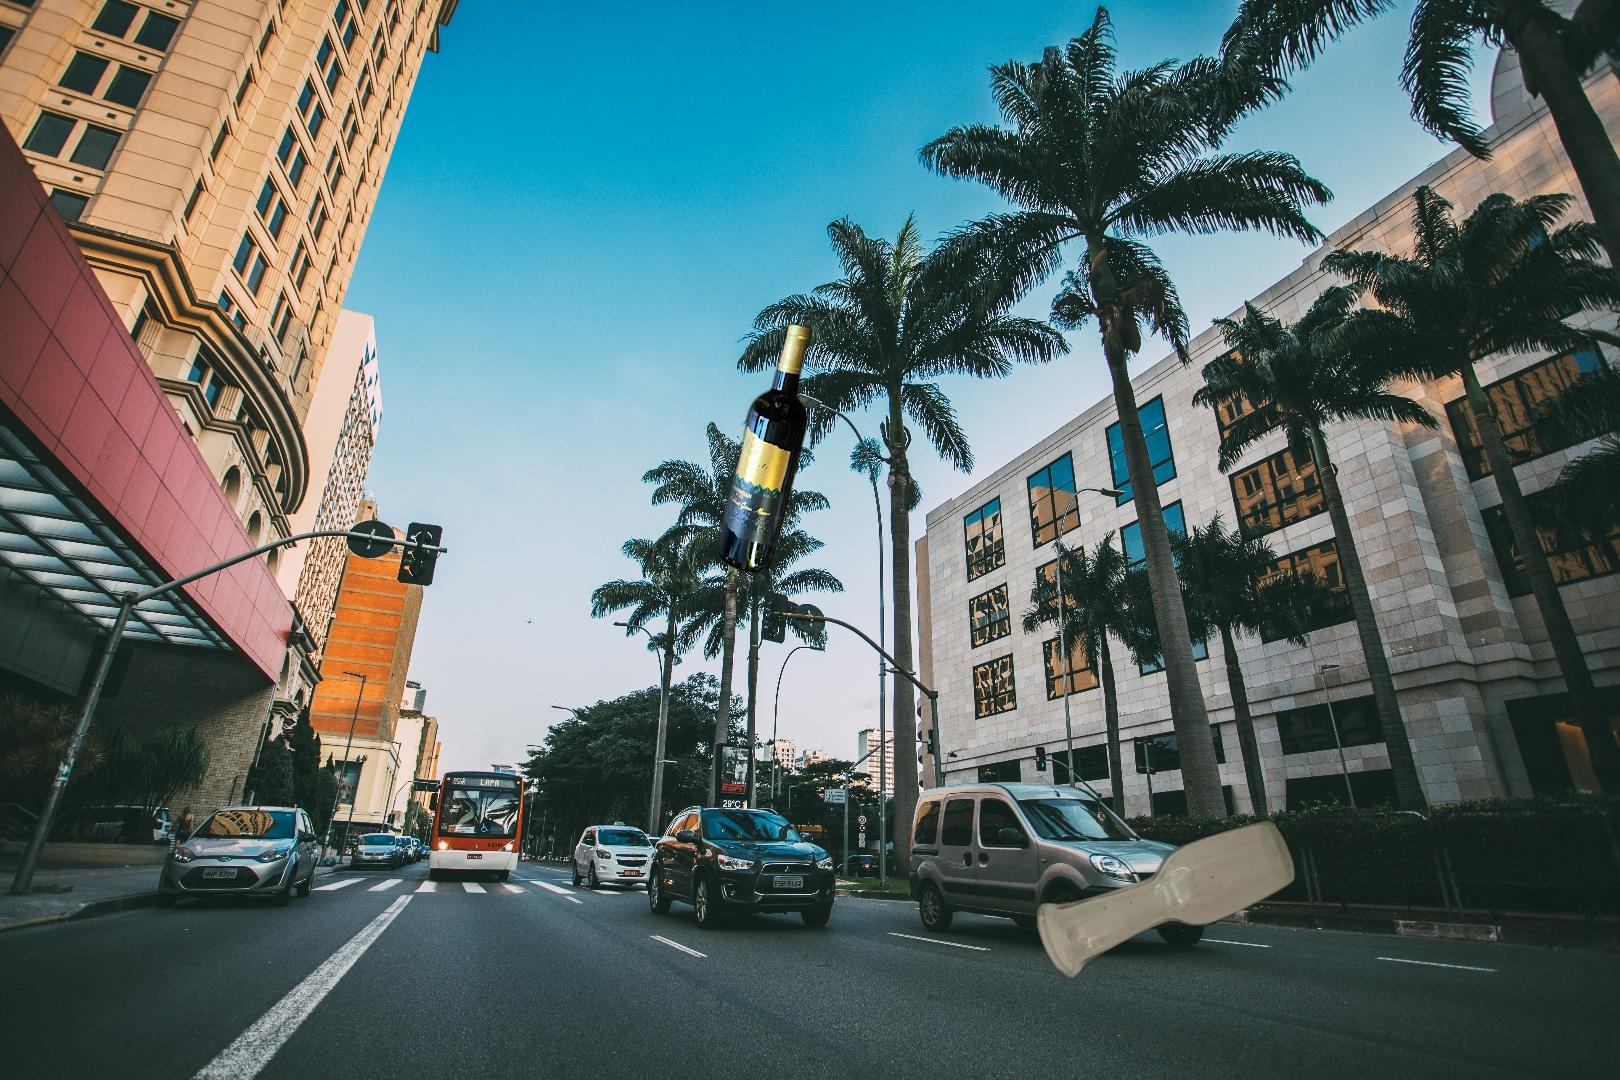glass: (714, 316, 902, 709), (1032, 818, 1301, 981)
